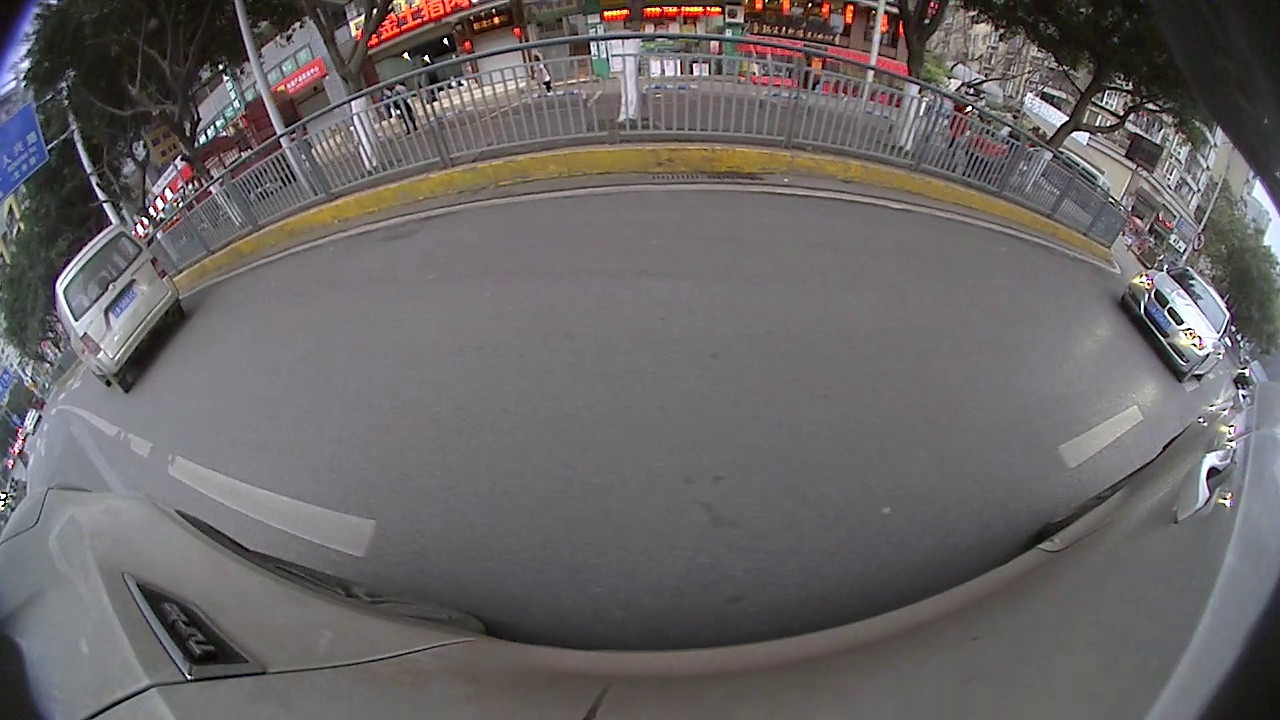car: (50, 220, 193, 399), (1116, 256, 1239, 387)
